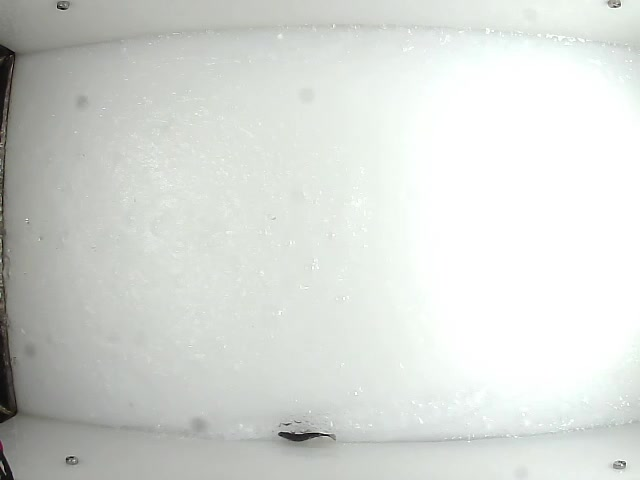fish: (276, 428, 337, 443)
